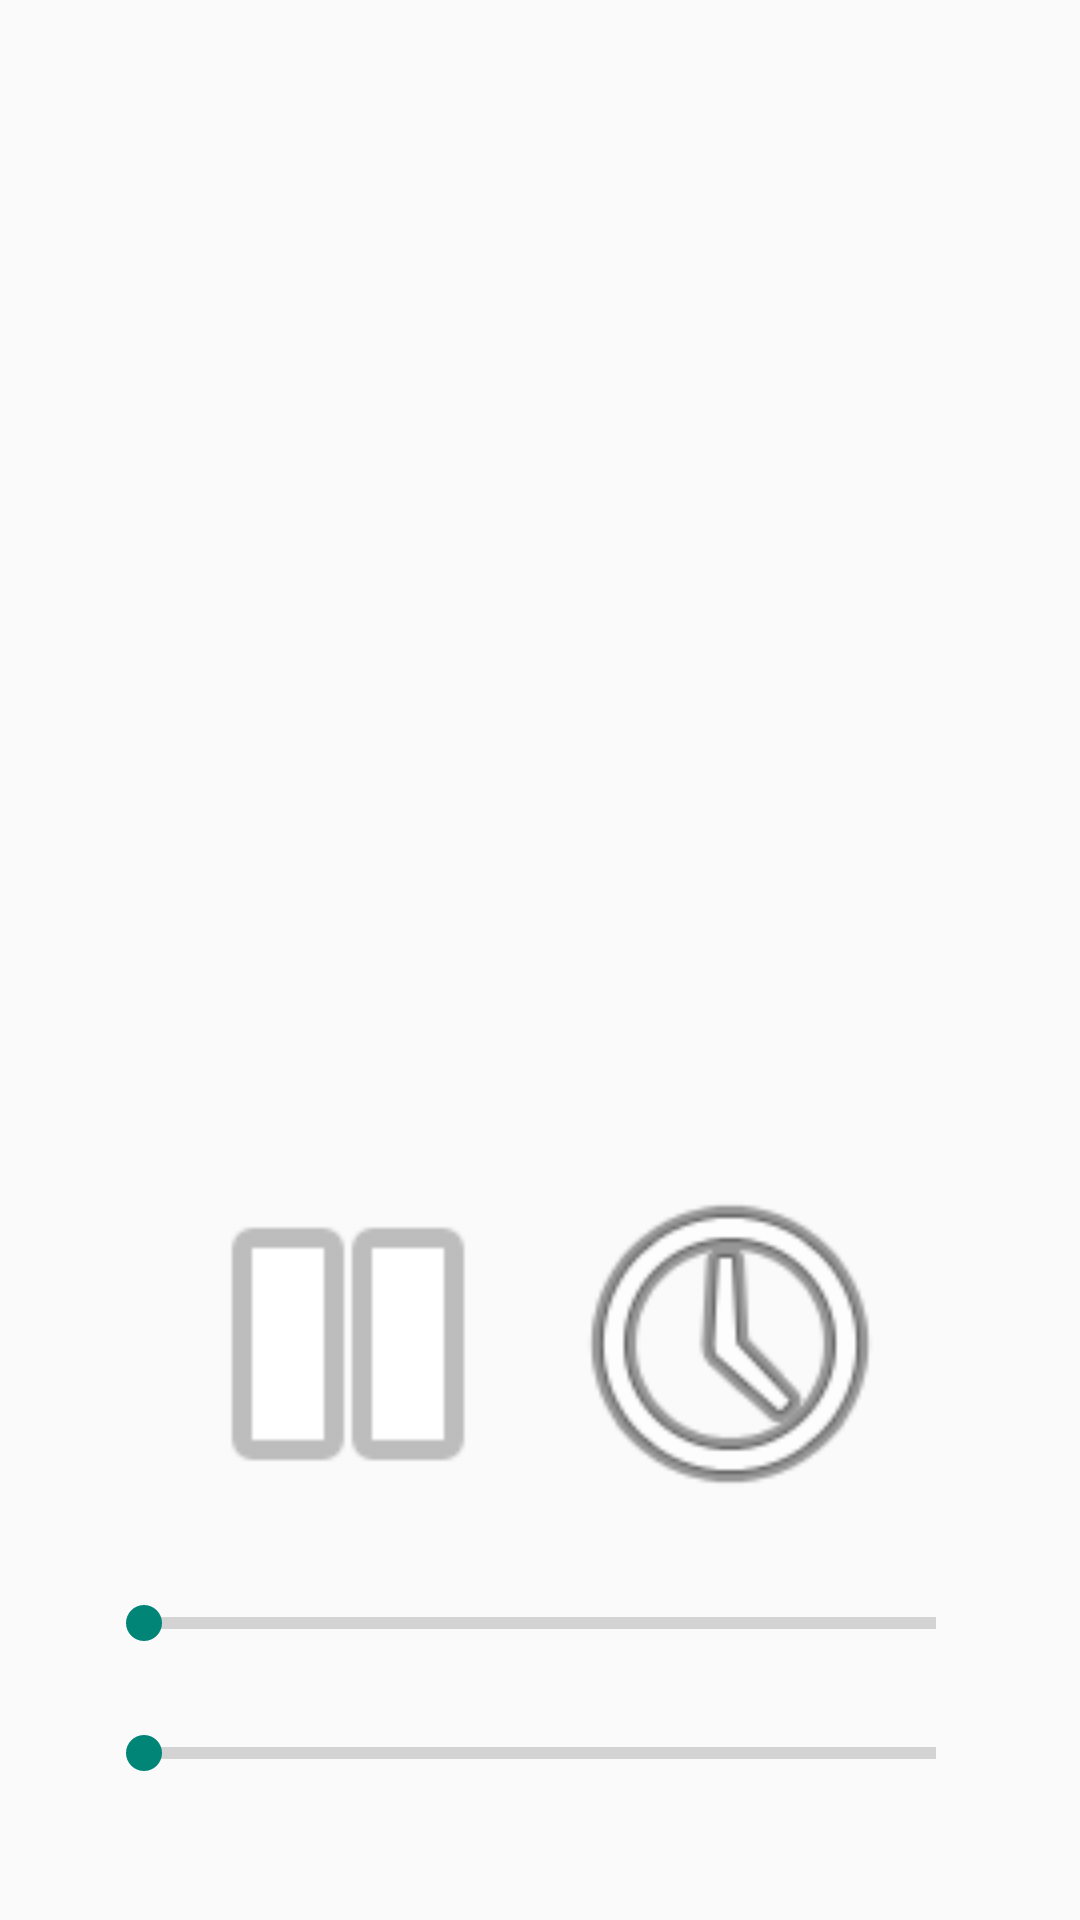

Screen size 1080w x 1920h. Icon name, then its box in pixels as (x1, y1, x2, y2):
pause: (232, 1228, 464, 1460)
recent history: (591, 1205, 869, 1483)
